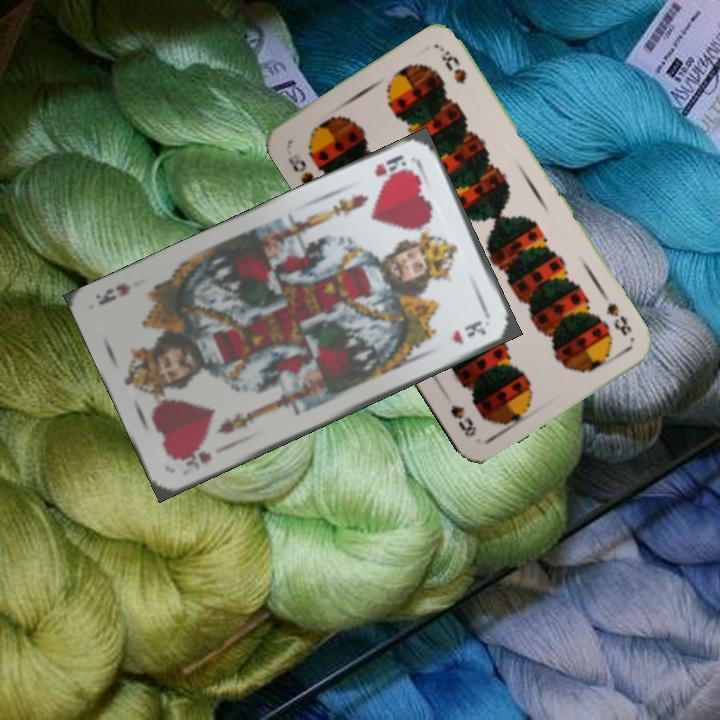HK: (370, 150, 416, 185), (169, 444, 214, 473)
S8: (601, 298, 635, 338), (283, 149, 317, 188)
